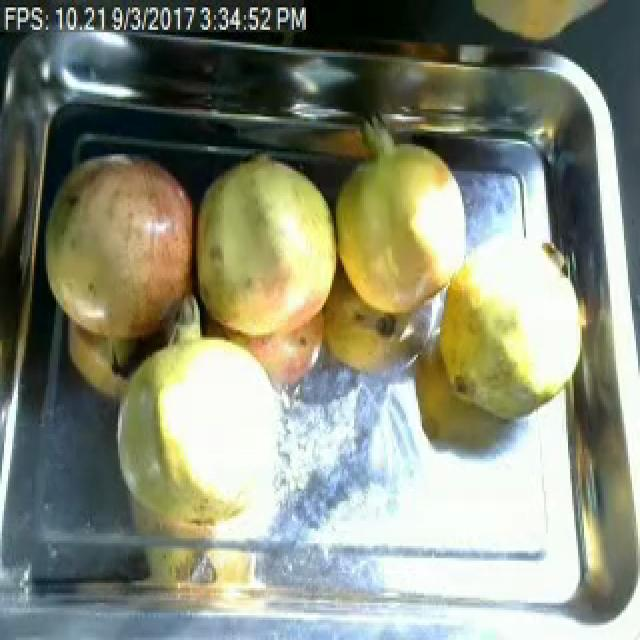fruit: (94, 302, 308, 546), (34, 141, 210, 372), (428, 228, 594, 432), (188, 146, 342, 355), (326, 129, 476, 335), (450, 0, 624, 52)
